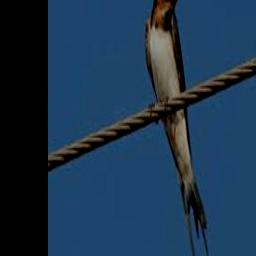Swallow: (145, 0, 208, 256)
